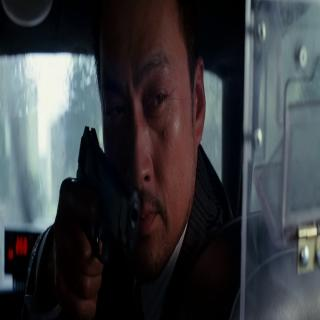gun: (59, 123, 140, 316)
